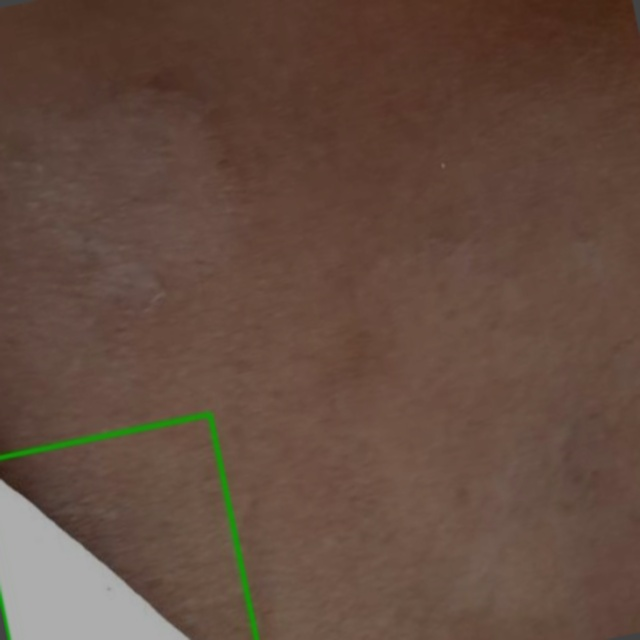Tinea Corporis: (0, 414, 256, 639)
